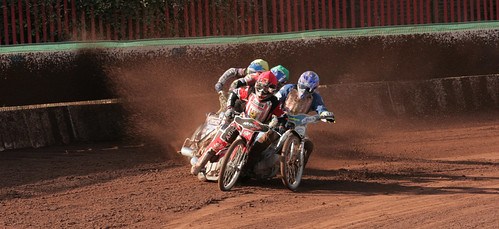helmet: (250, 75, 276, 99), (296, 67, 319, 94)
